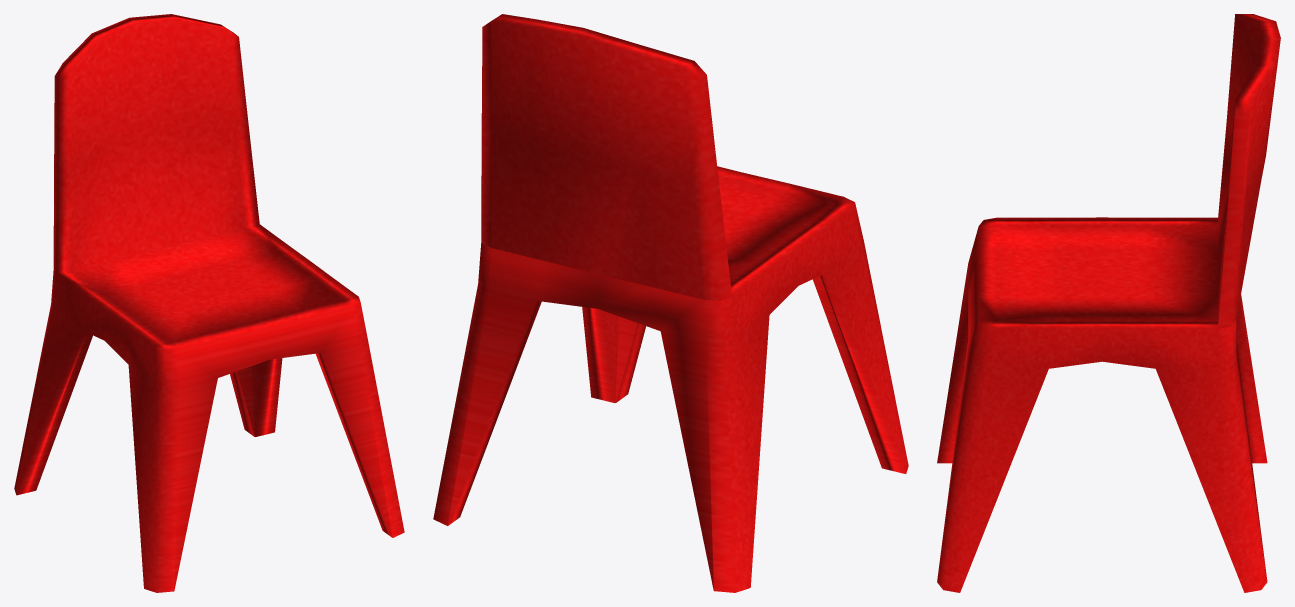
File: plastic chair.fbx
3 views of the same model, side by side, from view 1: azimuth 30°, elevation 25°; view 2: azimuth 150°, elevation 25°; view 3: azimuth 270°, elevation 25° (orthographic). The views are drawn at different scales.
Visible parts, largest first — view 1: plastic chair; view 2: plastic chair; view 3: plastic chair.
Boxes of the visible parts, <box> form: plastic chair: <box>14,14,404,592</box>; plastic chair: <box>433,14,908,592</box>; plastic chair: <box>937,14,1280,592</box>.
Size of the model in its own units: 230 by 369 by 238.
